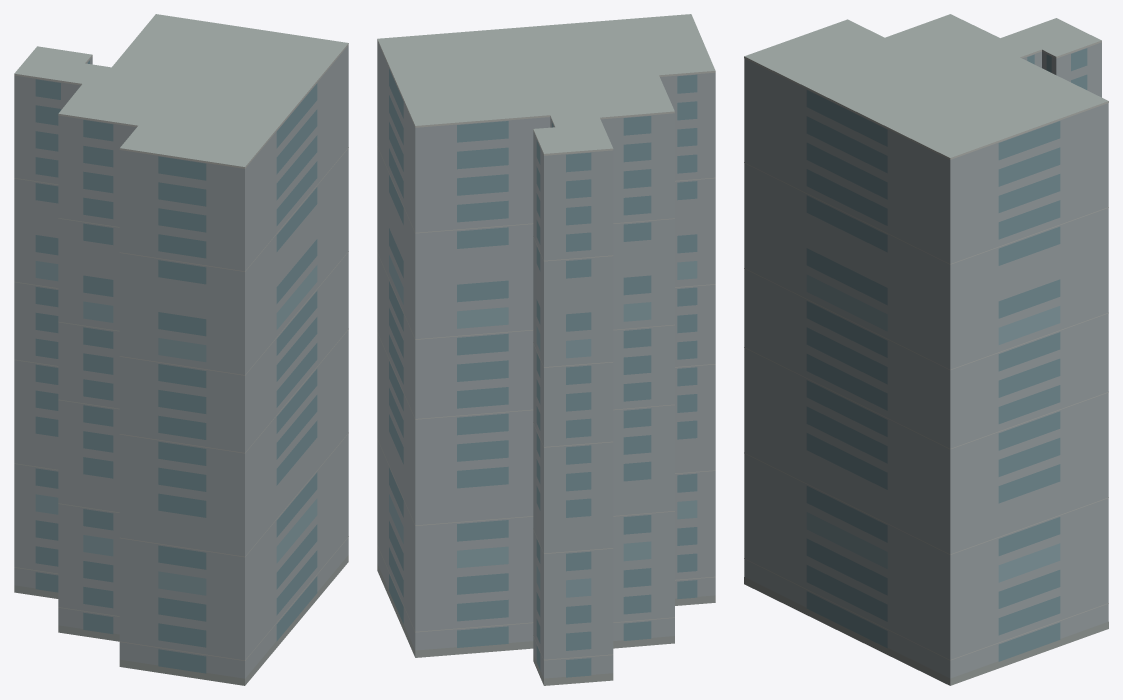
Rendered from survey-upis-32721065.glb.
The picture shows the model from 3 angles, left to right: view 1: azimuth 30°, elevation 25°; view 2: azimuth 150°, elevation 25°; view 3: azimuth 270°, elevation 25°; orthographic projection. The views are drawn at different scales.
Visible parts, largest first — view 1: survey-upis-32721065.tmp; view 2: survey-upis-32721065.tmp; view 3: survey-upis-32721065.tmp.
Part boxes in pixels (x1,y1,x2,y2): survey-upis-32721065.tmp: (14, 14, 348, 685); survey-upis-32721065.tmp: (377, 14, 715, 685); survey-upis-32721065.tmp: (744, 14, 1108, 685).
Size of the model in its own units: 40.68 by 69.45 by 43.5.
